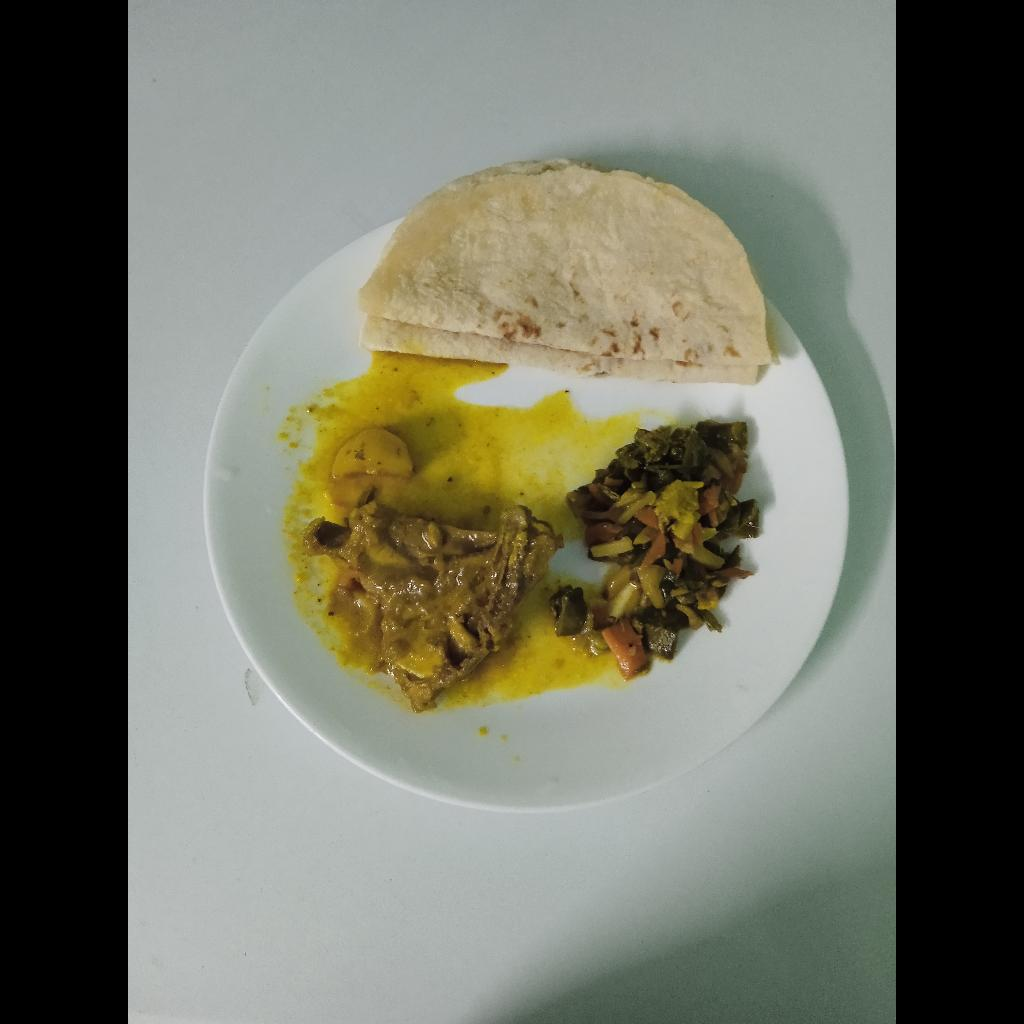chicken: (298, 500, 564, 714)
potato: (332, 428, 415, 481)
ruti: (357, 158, 782, 386)
vegetable: (546, 421, 764, 682)
